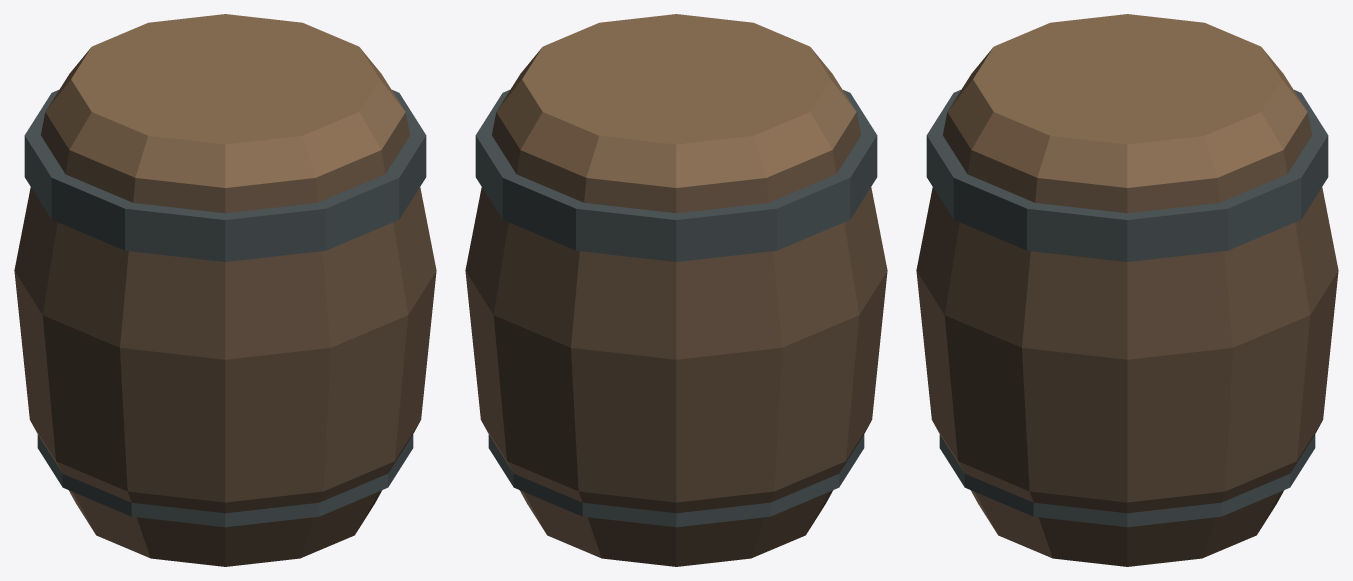
The model's file is barrel.glb.
3 views of the same model, side by side, from view 1: azimuth 30°, elevation 25°; view 2: azimuth 150°, elevation 25°; view 3: azimuth 270°, elevation 25° (orthographic).
Visible parts, largest first — view 1: barrel__body; view 2: barrel__body; view 3: barrel__body.
Boxes of the visible parts, bbox=[...] form: barrel__body: bbox=[14, 14, 436, 566]; barrel__body: bbox=[465, 14, 887, 566]; barrel__body: bbox=[916, 14, 1338, 566].
Bounding box in the file's own units: 0.82 × 0.91 × 0.82.
